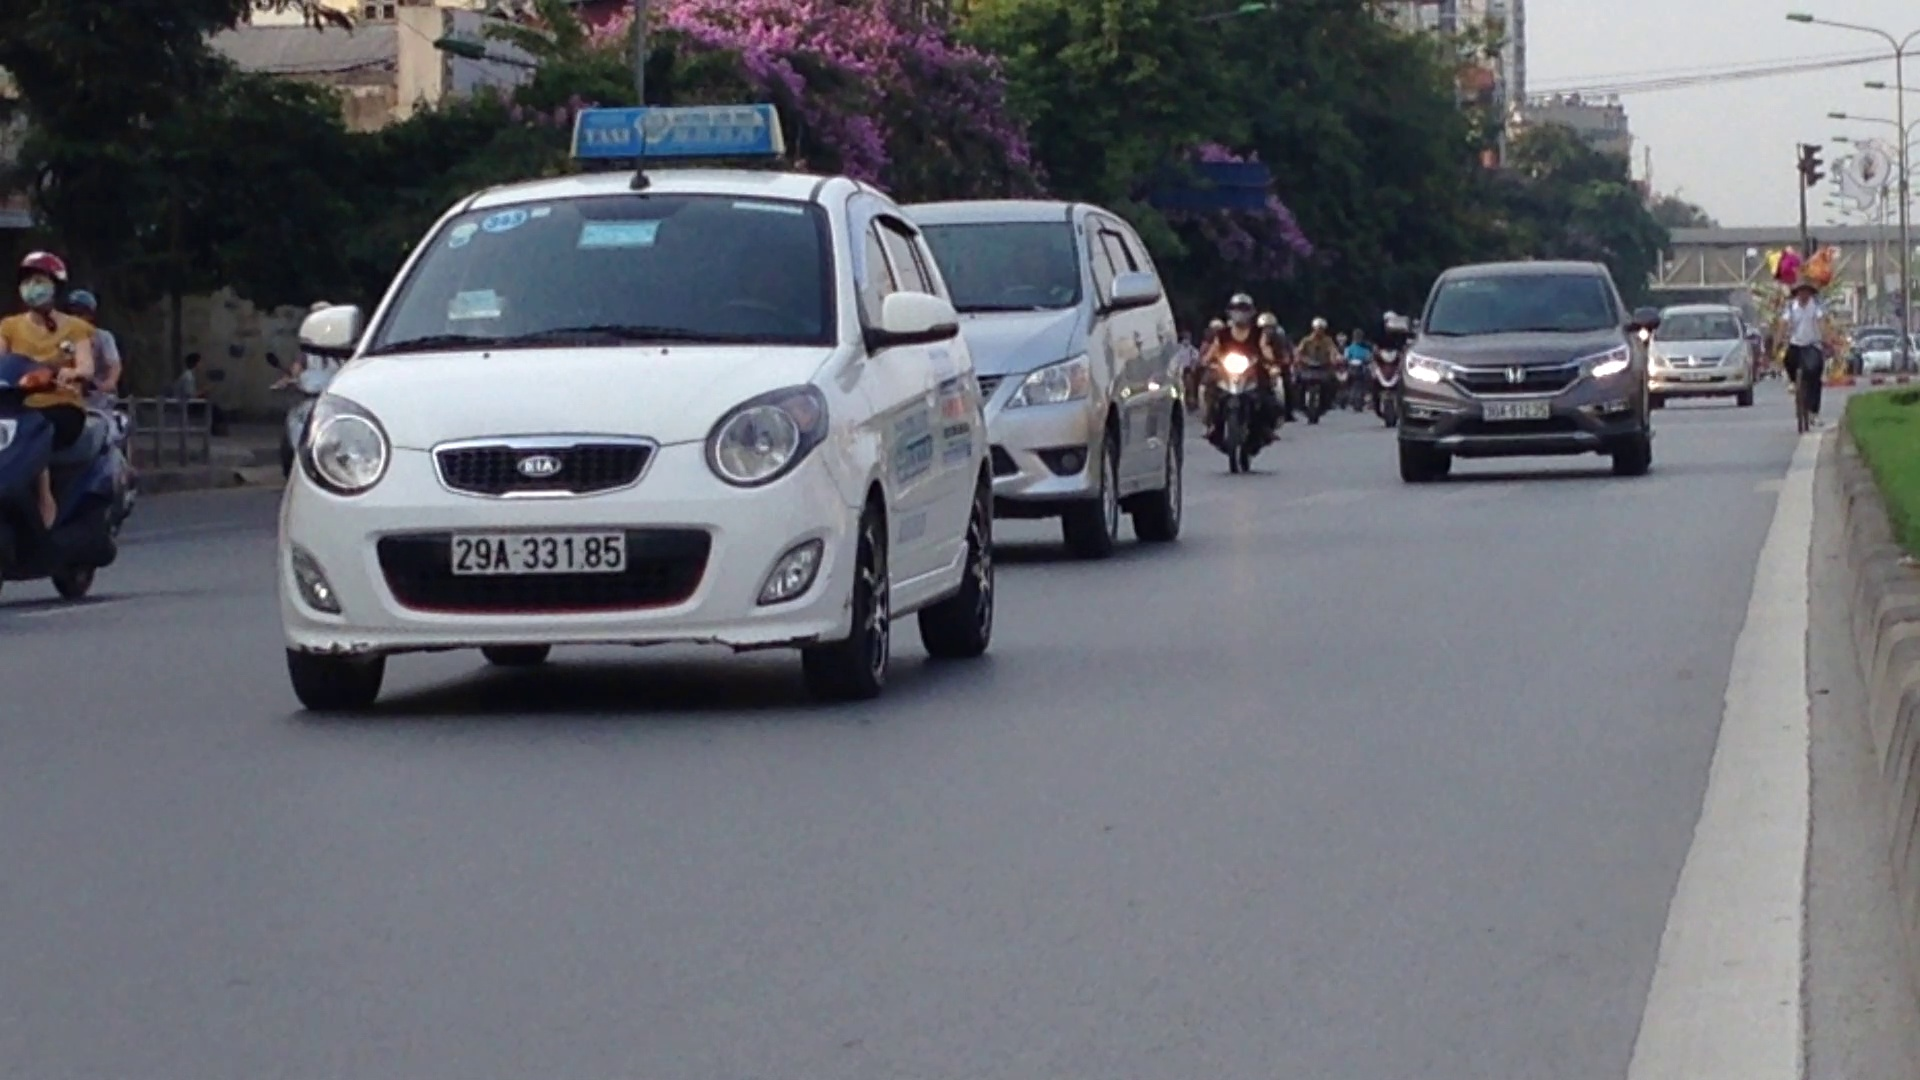person: (446, 527, 628, 574), (1481, 397, 1554, 422)
